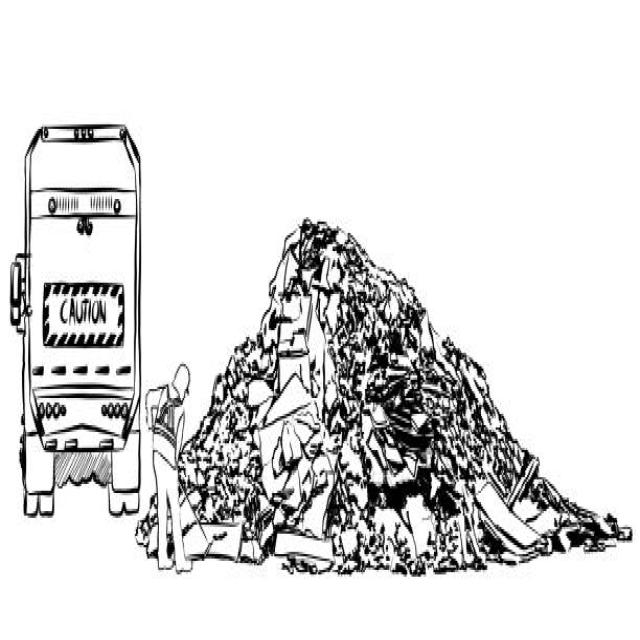trash: (200, 220, 603, 600)
